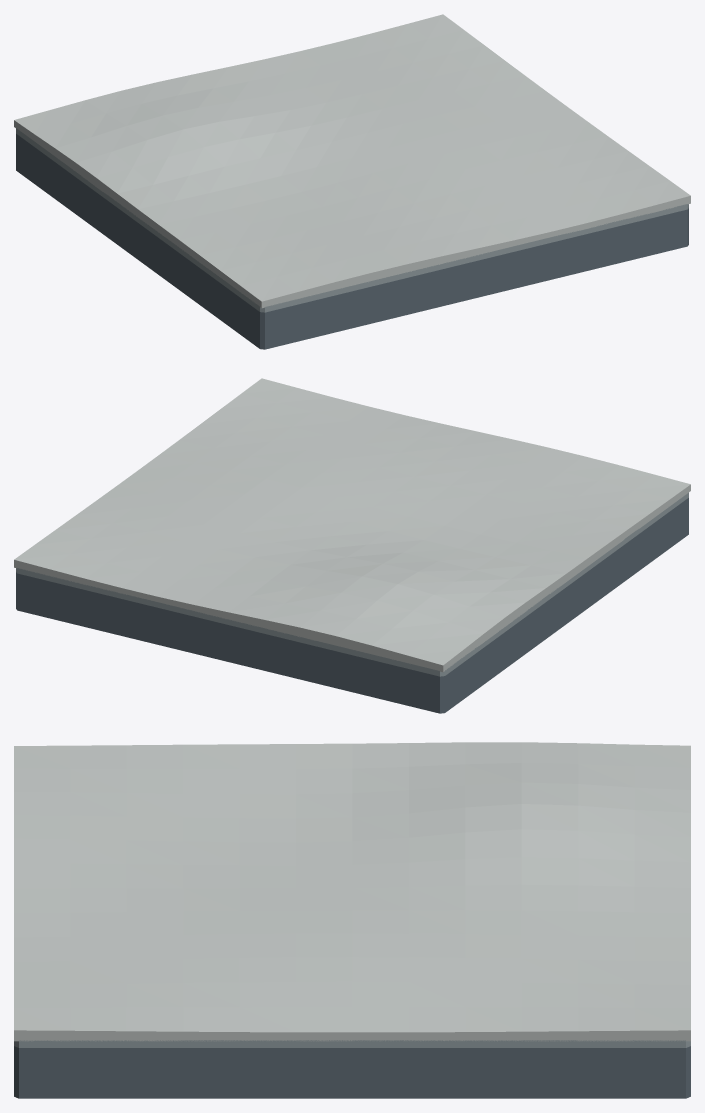
The picture shows the model from 3 angles, top to bottom: view 1: azimuth 30°, elevation 25°; view 2: azimuth 150°, elevation 25°; view 3: azimuth 270°, elevation 25°; orthographic projection. The views are drawn at different scales.
Parts seen in each view (by area): view 1: B01_雪地缓坡; view 2: B01_雪地缓坡; view 3: B01_雪地缓坡.
Boxes of the visible parts, left/top/right/bottom form: B01_雪地缓坡: left=14, top=14, right=690, bottom=349; B01_雪地缓坡: left=14, top=378, right=690, bottom=713; B01_雪地缓坡: left=14, top=742, right=690, bottom=1098.
Size of the model in its own units: 8 by 1.05 by 8.
